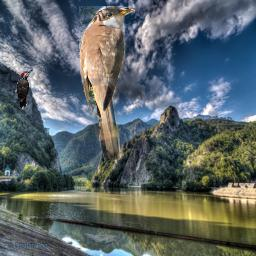Cuckoo: (79, 6, 135, 161)
Woodpecker: (13, 69, 34, 110)
